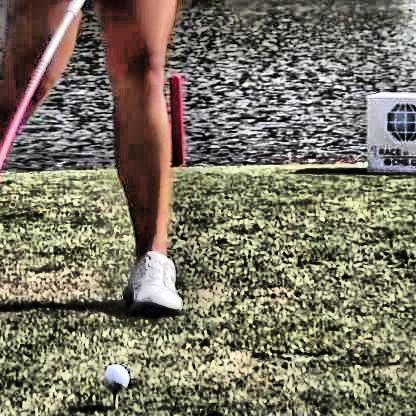golfball: (99, 360, 128, 392)
